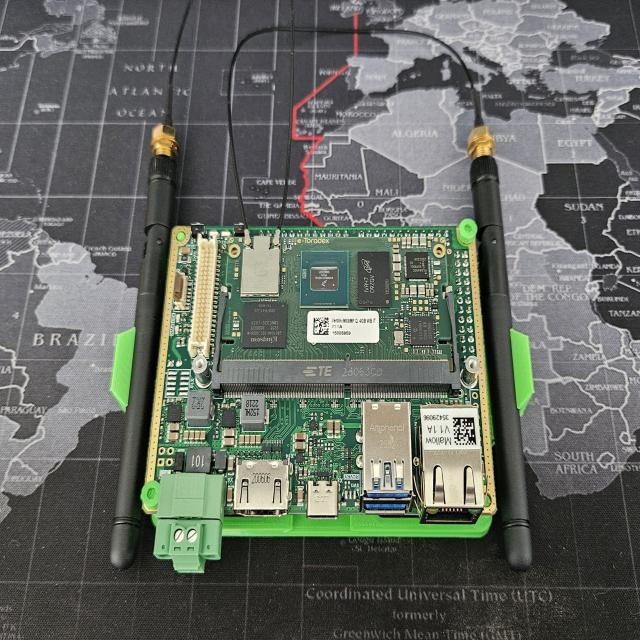som: (216, 239, 464, 377)
